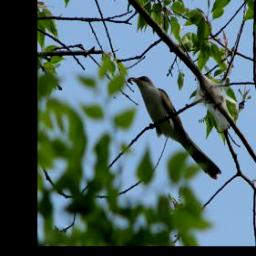Cuckoo: (129, 73, 222, 176)
